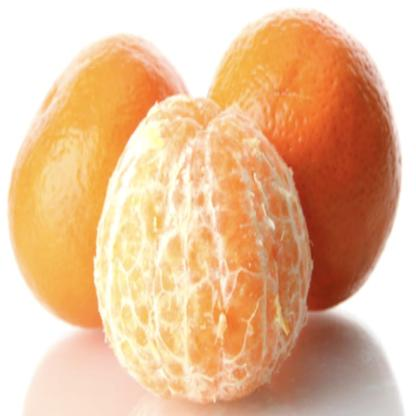fresh: (6, 13, 406, 404)
